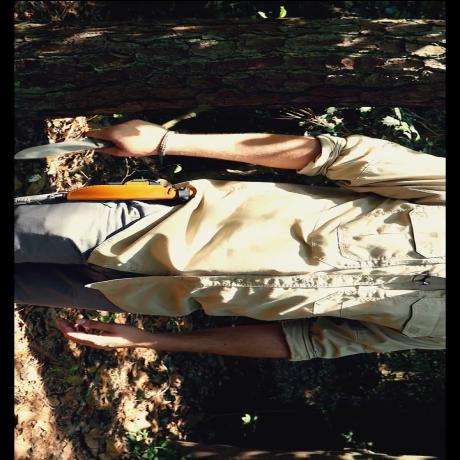1: (9, 118, 460, 356)
weapon: (10, 137, 110, 162)
